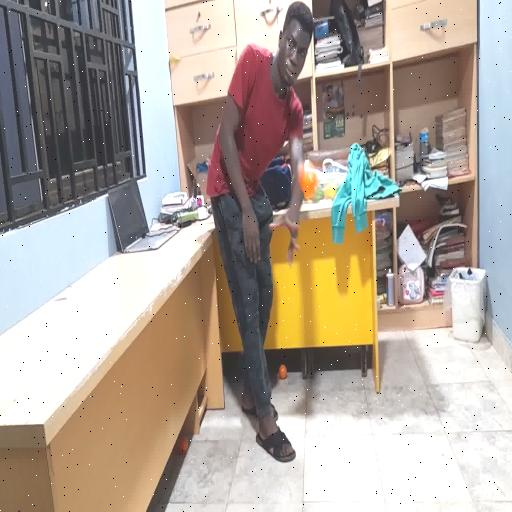plastic-ball: (296, 158, 316, 205)
